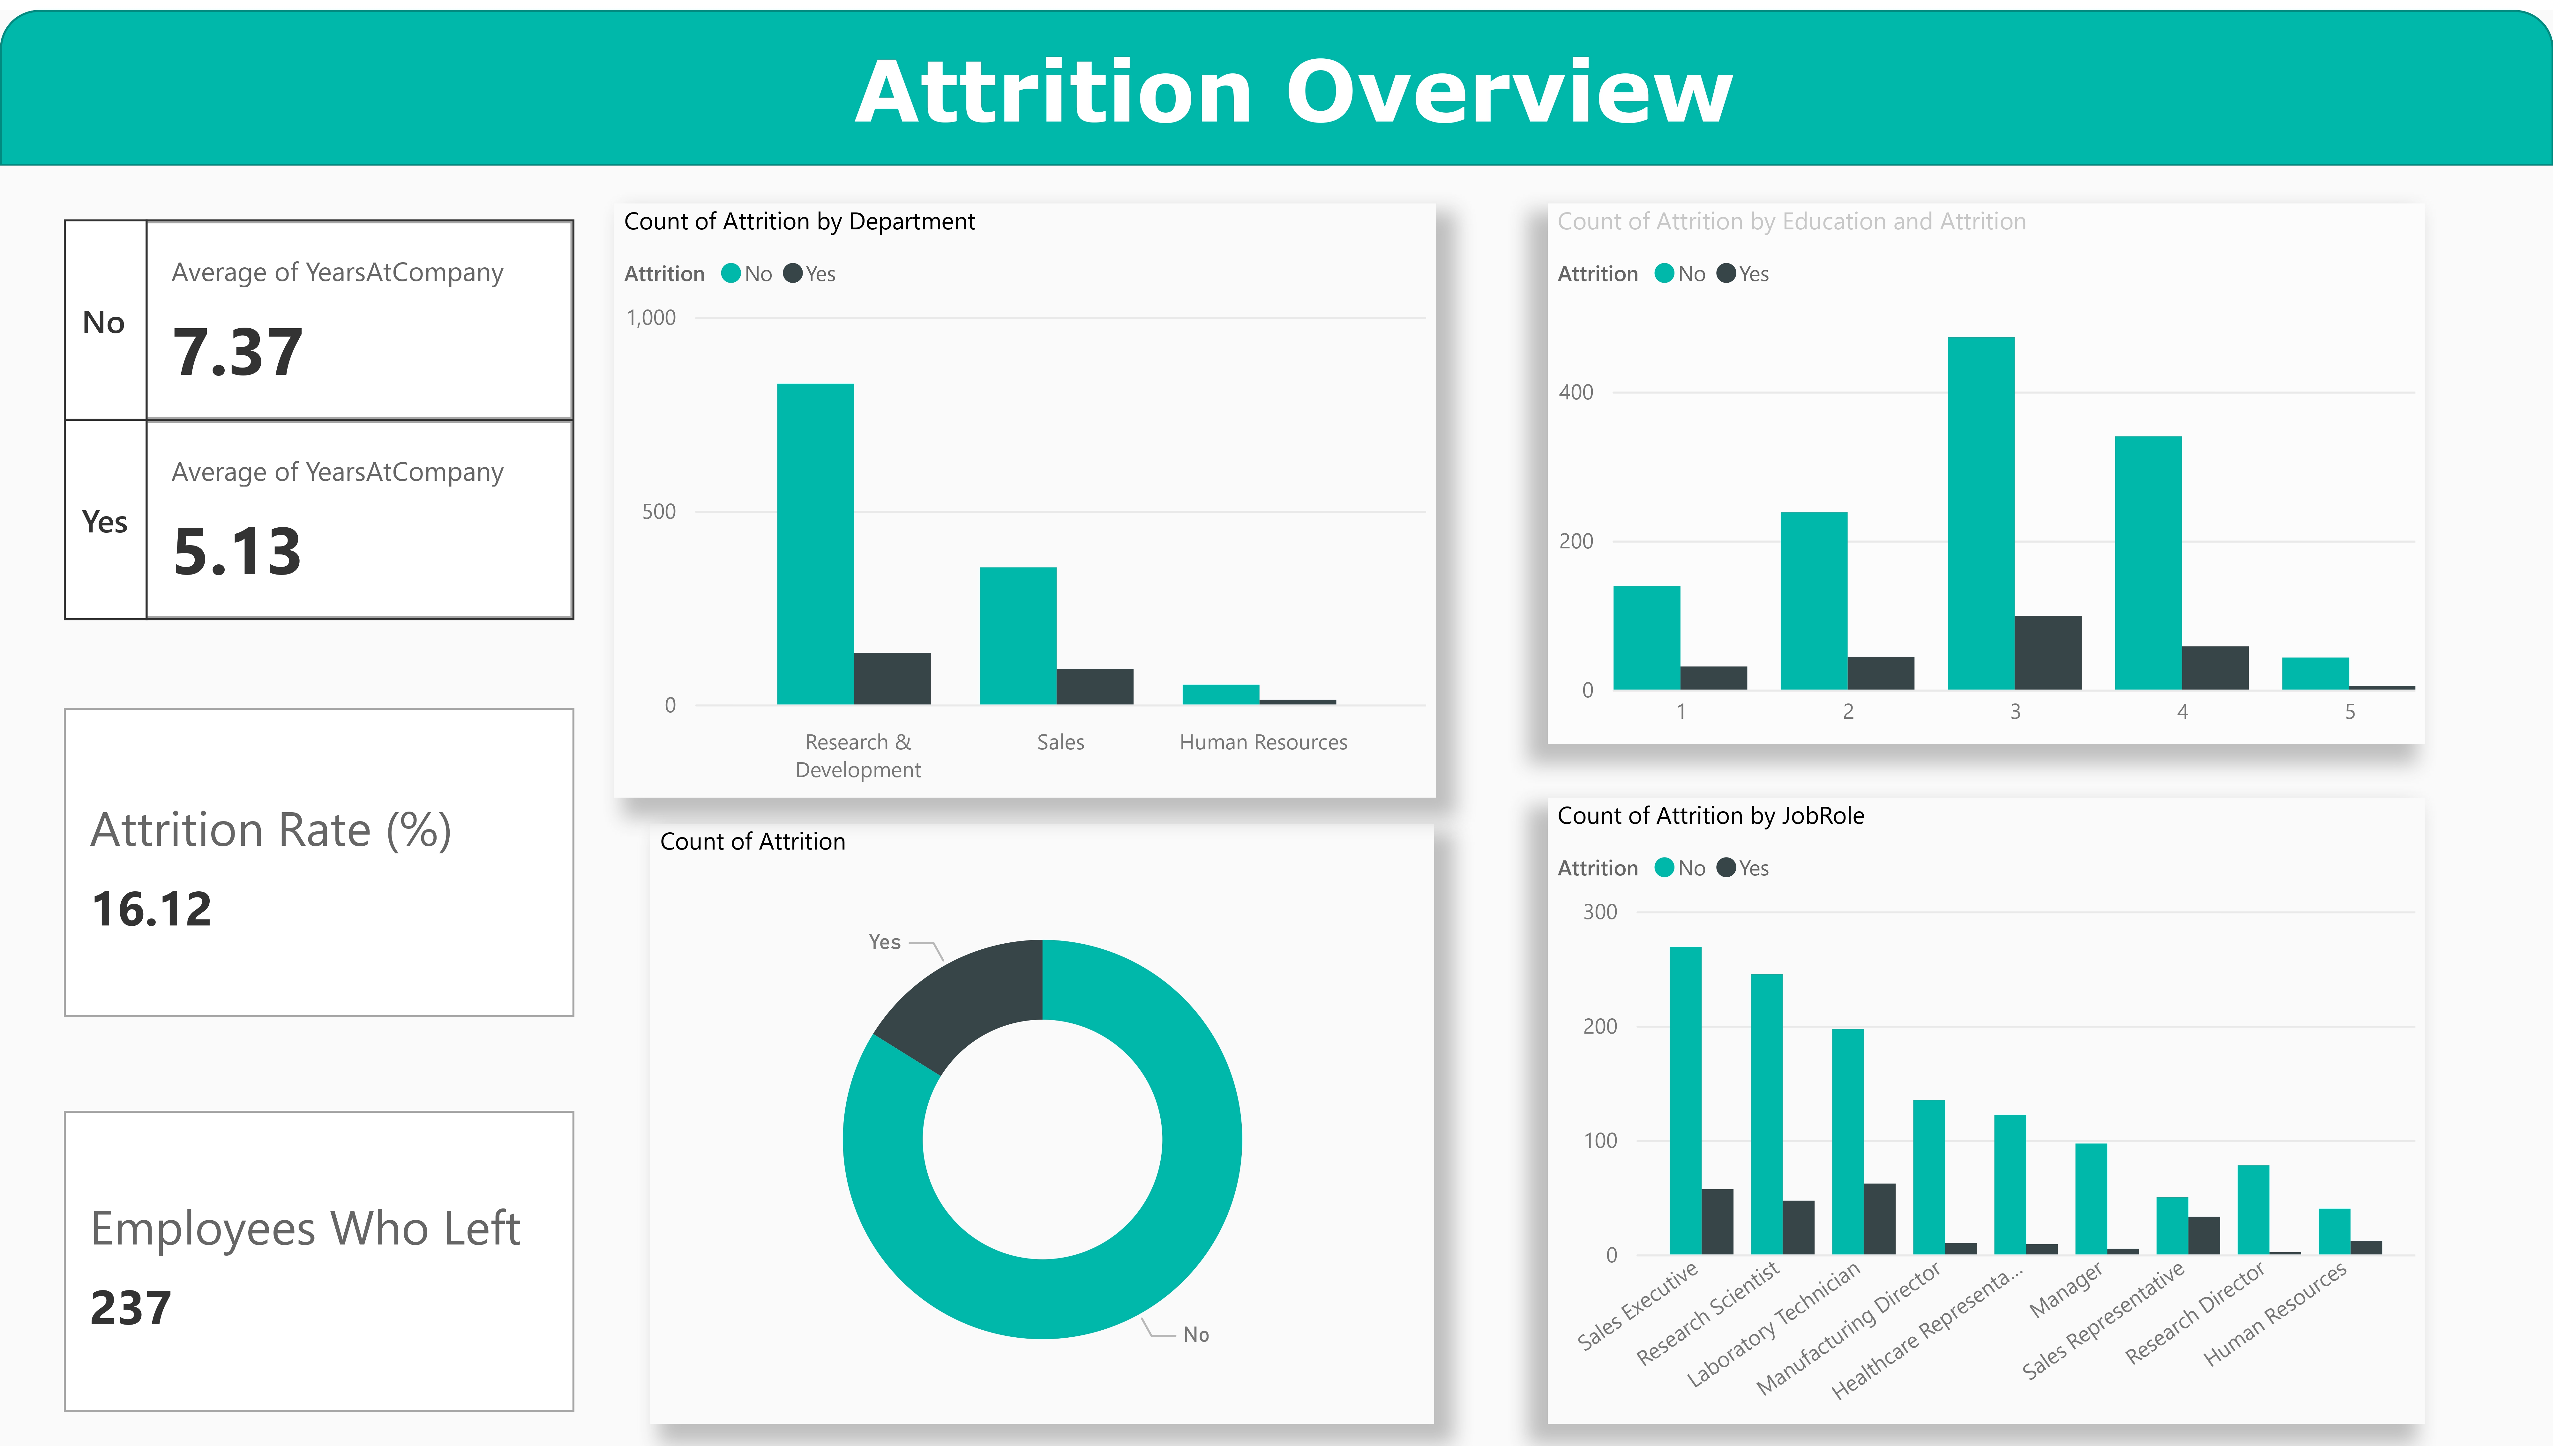

The page's visual inventory and layout, read from the dashboard file:
{"tool":"powerbi","page":{"name":"Page 1","canvas":[1280,720],"ordinal":0},"visuals":[{"type":"donutChart","title":"Count of Attrition","fields":{"Y":["CountNonNull(WA_Fn-UseC_-HR-Employee-Attrition.Attrition)"],"Category":["WA_Fn-UseC_-HR-Employee-Attrition.Attrition"]},"box":[326.4,407.7,393.4,300.8],"z":0},{"type":"clusteredColumnChart","title":"Count of Attrition by JobRole","fields":{"Category":["WA_Fn-UseC_-HR-Employee-Attrition.JobRole"],"Y":["CountNonNull(WA_Fn-UseC_-HR-Employee-Attrition.Attrition)"],"Series":["WA_Fn-UseC_-HR-Employee-Attrition.Attrition"]},"box":[775.4,394.8,480.4,325],"z":1000},{"type":"clusteredColumnChart","title":"Count of Attrition by Department","fields":{"Category":["WA_Fn-UseC_-HR-Employee-Attrition.Department"],"Y":["CountNonNull(WA_Fn-UseC_-HR-Employee-Attrition.Attrition)"],"Series":["WA_Fn-UseC_-HR-Employee-Attrition.Attrition"]},"box":[307.9,96.9,411.9,297.9],"z":2000},{"type":"shape","box":[0,0,1280.3,78.2],"z":3000},{"type":"cardVisual","fields":{"Data":["employee_attrition.Attrition Rate (%)"]},"box":[27.1,344.9,266.5,165.3],"z":4000},{"type":"cardVisual","fields":{"Data":["employee_attrition.Employees Left"]},"box":[27.1,547.3,266.5,161.1],"z":5000},{"type":"cardVisual","fields":{"Data":["Avg(employee_attrition.YearsAtCompany)"],"Rows":["employee_attrition.Attrition"]},"box":[27.1,79.8,266.5,252.3],"z":6000},{"type":"clusteredColumnChart","title":"Count of Attrition by Education ","fields":{"Y":["CountNonNull(WA_Fn-UseC_-HR-Employee-Attrition.Attrition)"],"Series":["WA_Fn-UseC_-HR-Employee-Attrition.Attrition"],"Category":["employee_attrition.Education"]},"box":[815.3,96.9,440.4,270.8],"z":7000},{"type":"textbox","box":[423.5,8.4,547.7,71.2],"z":8000}]}

Visuals, with their boxes in screenshot pixels (x1, y1, x2, y2), scaled from the page's 1280x720 canvas onto the 2553x1456 screenshot:
"Count of Attrition" donutChart: pyautogui.locateOnScreen(651, 824, 1436, 1433)
"Count of Attrition by JobRole" clusteredColumnChart: pyautogui.locateOnScreen(1546, 799, 2505, 1456)
"Count of Attrition by Department" clusteredColumnChart: pyautogui.locateOnScreen(614, 196, 1436, 799)
shape: pyautogui.locateOnScreen(0, 0, 2553, 158)
cardVisual - employee_attrition.Attrition Rate (%): pyautogui.locateOnScreen(54, 697, 586, 1032)
cardVisual - employee_attrition.Employees Left: pyautogui.locateOnScreen(54, 1107, 586, 1432)
cardVisual - Avg(employee_attrition.YearsAtCompany) x employee_attrition.Attrition: pyautogui.locateOnScreen(54, 161, 586, 672)
"Count of Attrition by Education " clusteredColumnChart: pyautogui.locateOnScreen(1626, 196, 2504, 744)
textbox: pyautogui.locateOnScreen(845, 17, 1937, 161)
